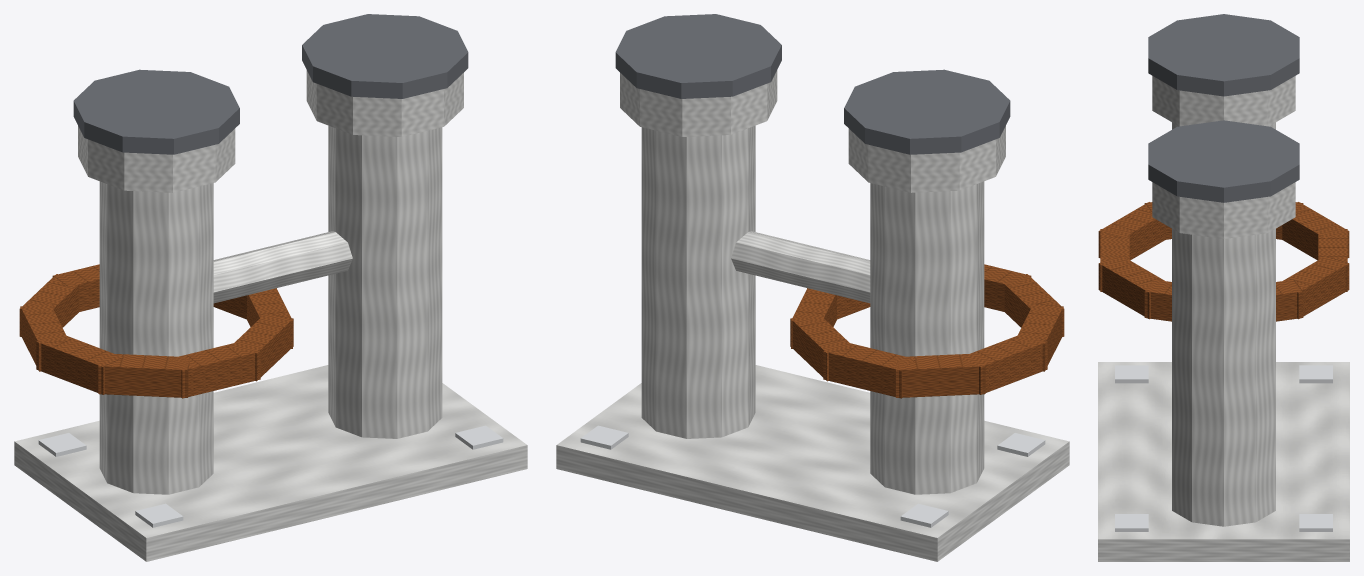
Rendered from cruise-ship-deck-and-lounge-cruise-ship-deck-and-loung-bc129f4f__38425.glb.
3 views of the same model, side by side, from view 1: azimuth 30°, elevation 25°; view 2: azimuth 150°, elevation 25°; view 3: azimuth 270°, elevation 25° (orthographic). The views are drawn at different scales.
Parts seen in each view (by area): view 1: cruise-ship-deck-and-lounge-mooring-bollard; view 2: cruise-ship-deck-and-lounge-mooring-bollard; view 3: cruise-ship-deck-and-lounge-mooring-bollard.
Part boxes in pixels (x1,y1,x2,y2): cruise-ship-deck-and-lounge-mooring-bollard: [14, 14, 527, 561]; cruise-ship-deck-and-lounge-mooring-bollard: [556, 14, 1069, 561]; cruise-ship-deck-and-lounge-mooring-bollard: [1098, 14, 1349, 561].
Bounding box in the file's own units: 1.11 × 0.98 × 0.6001.
Materials: 4 (2 with a texture image).
